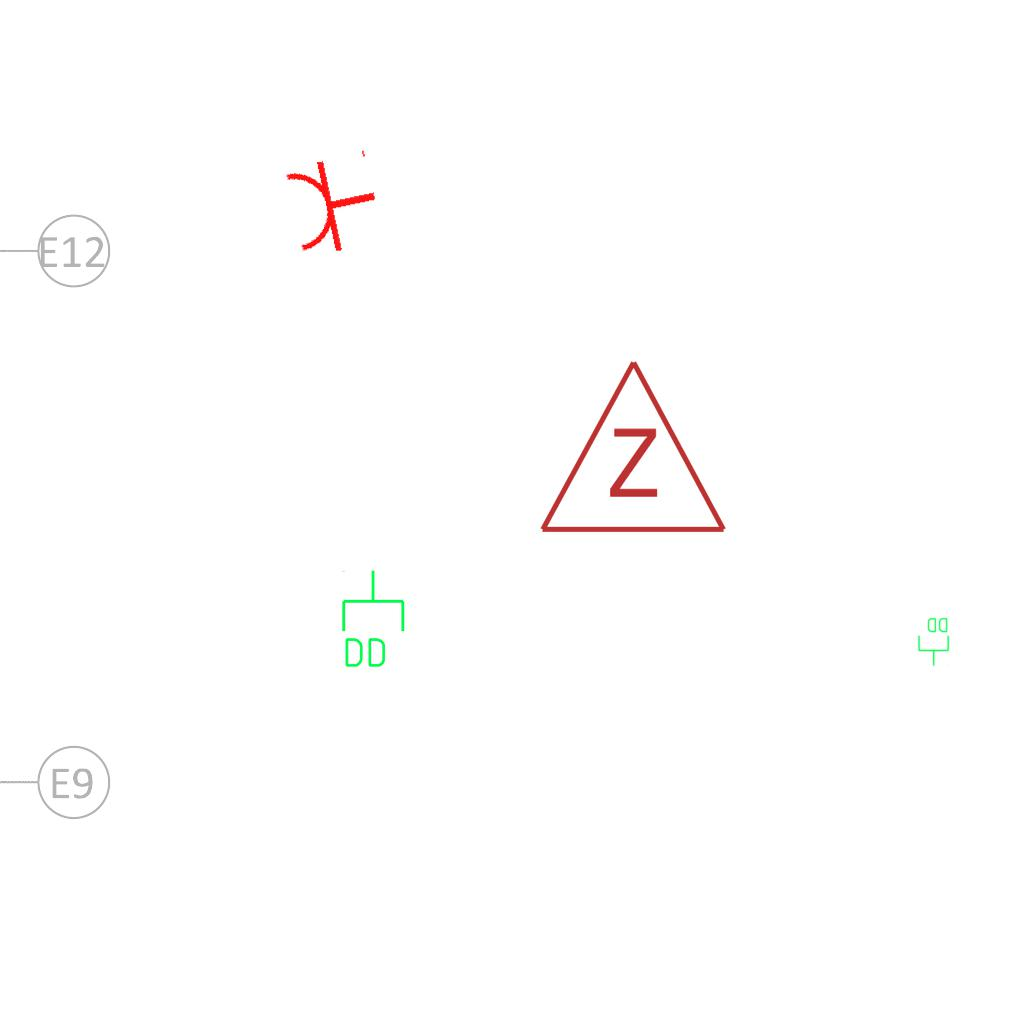Datenanschluss_zweifach: (338, 568, 407, 671), (917, 616, 951, 667)
Schukosteckdose_einfach: (280, 145, 387, 261)
Zimmersignalleuchte: (533, 347, 729, 547)
